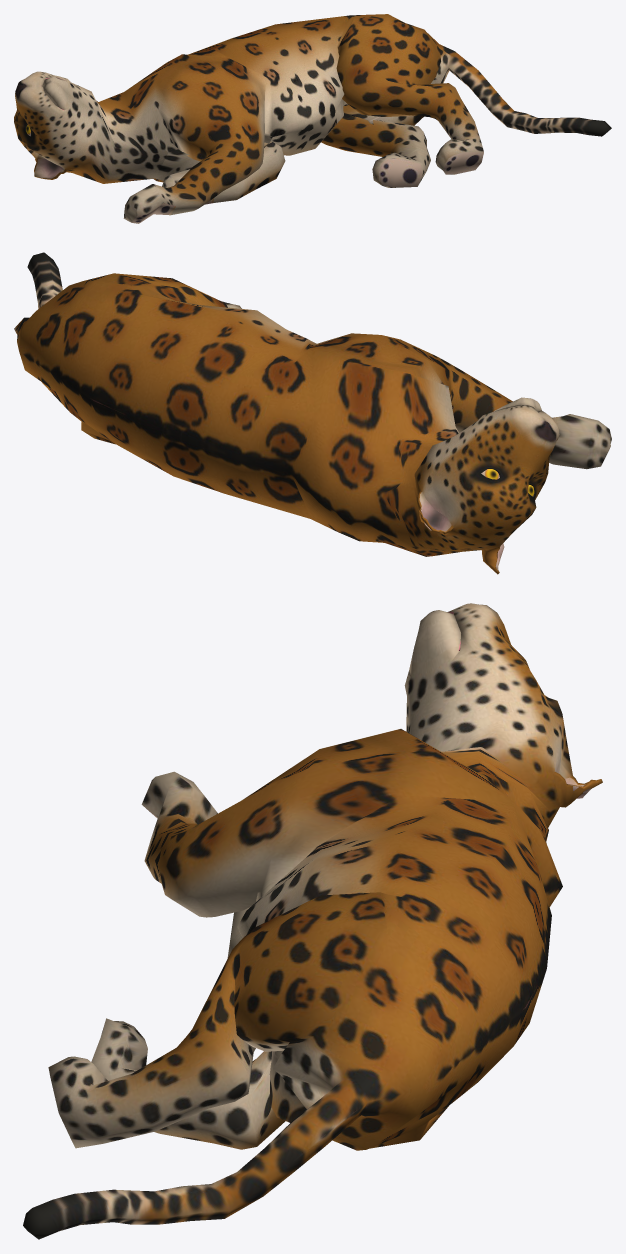
The model's file is death.FBX.
The picture shows the model from 3 angles, top to bottom: view 1: azimuth 30°, elevation 25°; view 2: azimuth 150°, elevation 25°; view 3: azimuth 270°, elevation 25°; orthographic projection. The views are drawn at different scales.
Parts seen in each view (by area): view 1: Jaguar_CAT; view 2: Jaguar_CAT; view 3: Jaguar_CAT.
Boxes of the visible parts, left/top/right/bottom form: Jaguar_CAT: left=14, top=14, right=611, bottom=223; Jaguar_CAT: left=14, top=252, right=611, bottom=574; Jaguar_CAT: left=23, top=603, right=602, bottom=1239.
Bounding box in the file's own units: 88.34 × 21.81 × 45.65.
